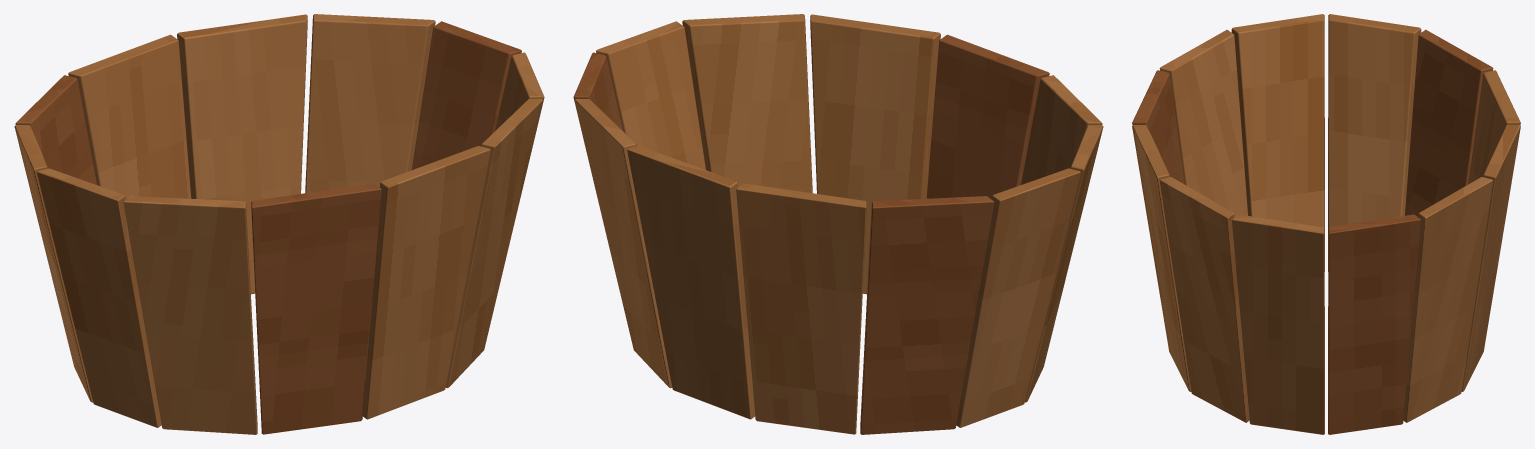
File: Staves.glb
3 views of the same model, side by side, from view 1: azimuth 30°, elevation 25°; view 2: azimuth 150°, elevation 25°; view 3: azimuth 270°, elevation 25° (orthographic). The views are drawn at different scales.
Visible parts, largest first — view 1: Staves; view 2: Staves; view 3: Staves.
Part boxes in pixels (<box>): Staves: <box>14,14,544,434</box>; Staves: <box>573,14,1103,434</box>; Staves: <box>1132,14,1520,434</box>.
Bounding box in the file's own units: 0.7197 × 0.349 × 0.5386.
Materials: 2 (2 with a texture image).
